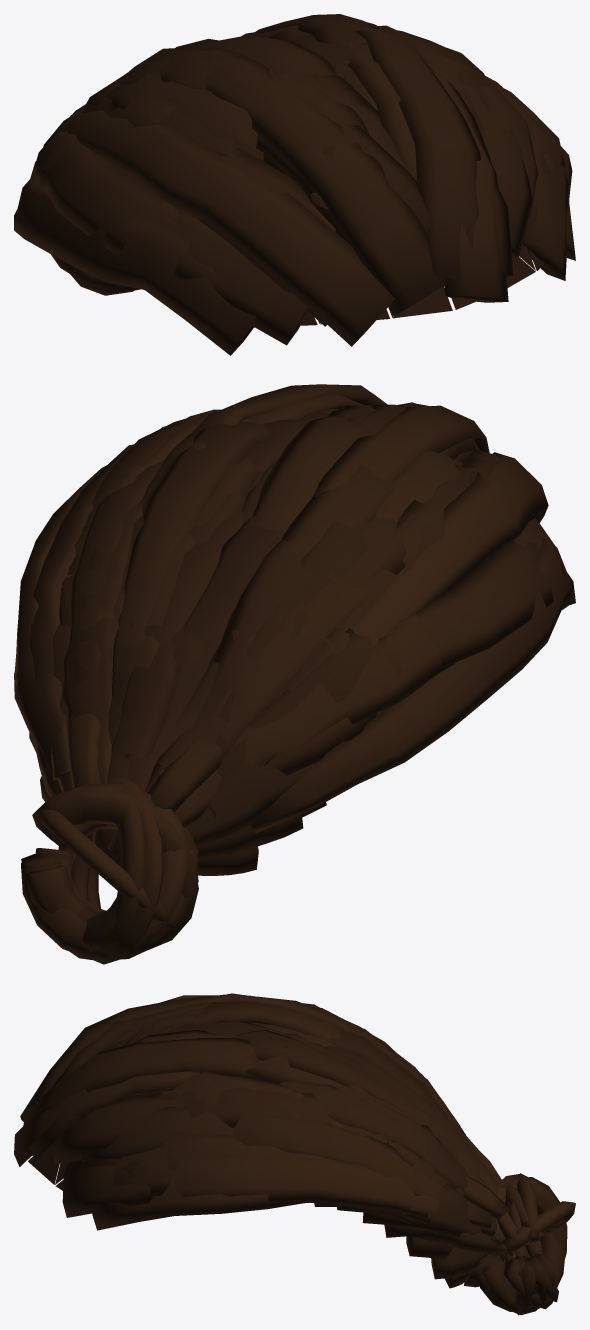
File: kopf.haar.undercut_bun.glb
The picture shows the model from 3 angles, top to bottom: view 1: azimuth 30°, elevation 25°; view 2: azimuth 150°, elevation 25°; view 3: azimuth 270°, elevation 25°; orthographic projection. The views are drawn at different scales.
Parts seen in each view (by area): view 1: haar; view 2: haar; view 3: haar.
Part boxes in pixels (x1,y1,x2,y2): haar: (14,14,575,355); haar: (14,384,575,964); haar: (14,993,575,1315).
Bounding box in the file's own units: 0.1676 × 0.1339 × 0.2326.
